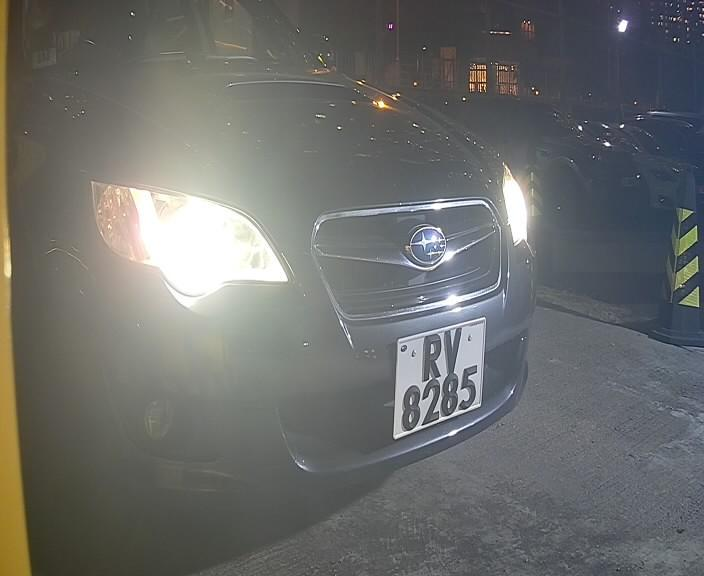privatecar: (60, 1, 563, 541)
